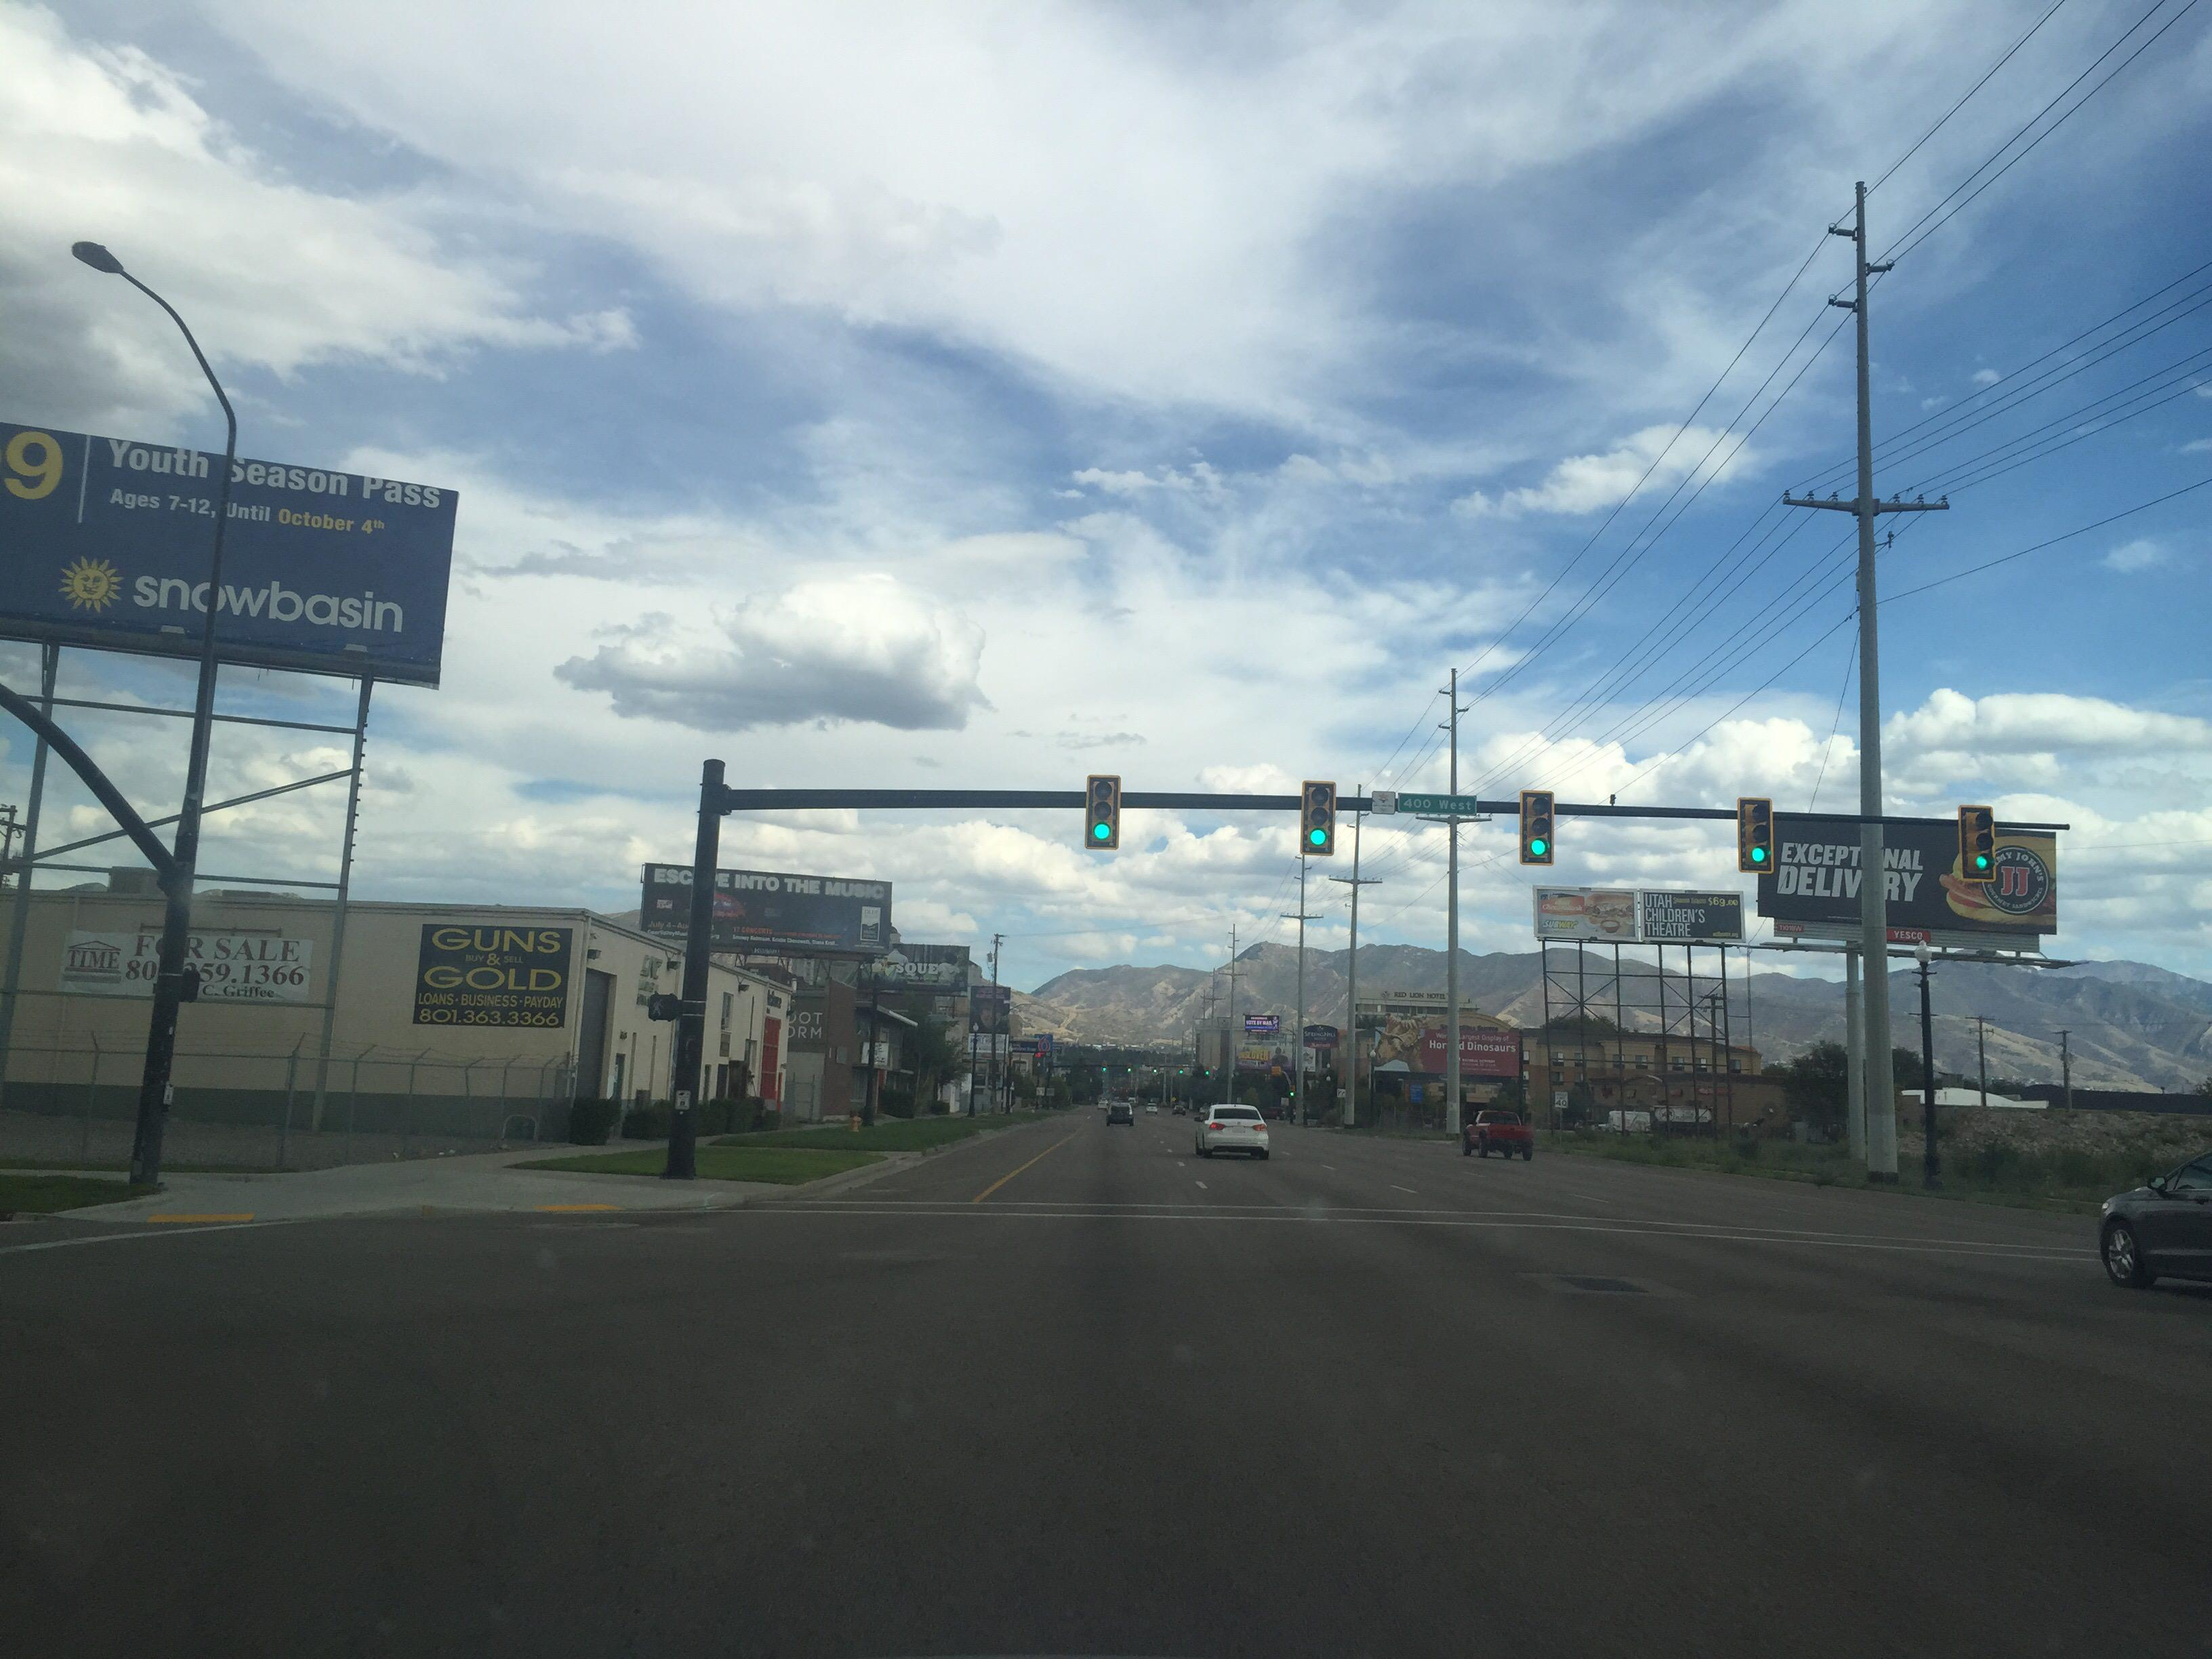vinyl banner: (45, 911, 327, 1021), (408, 904, 575, 1042)
